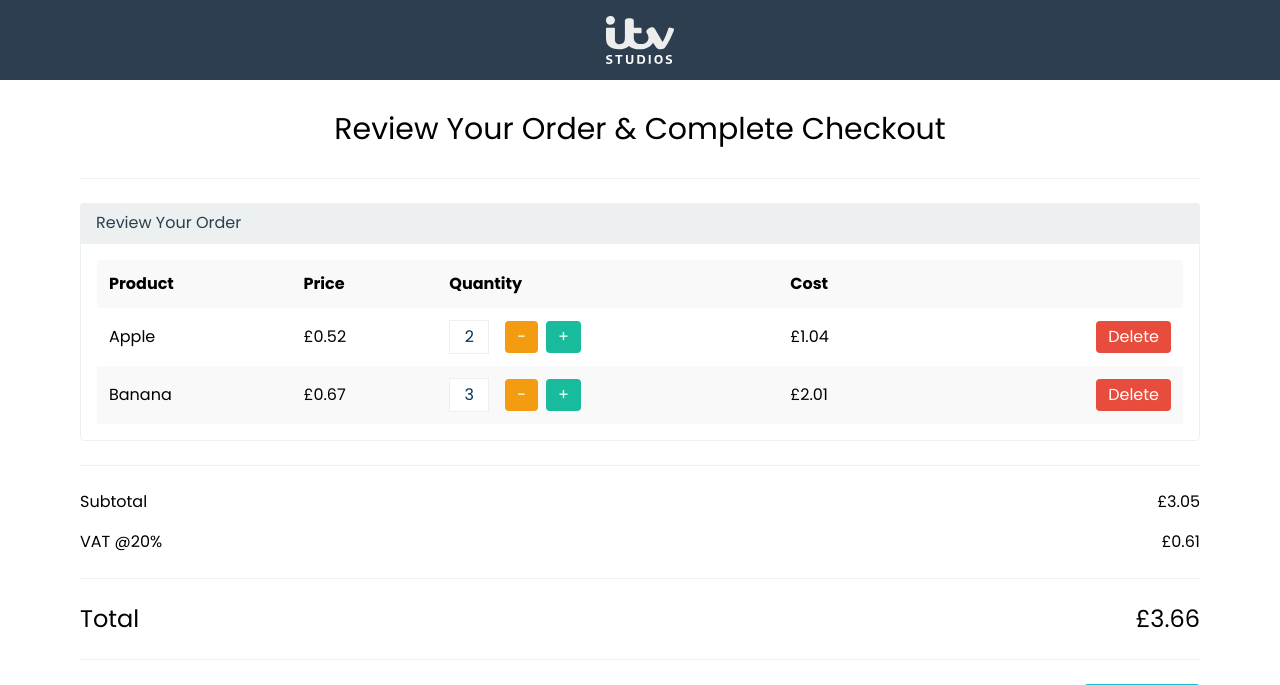
Test: Shopping Basket › allows deleting a product from the basket
// Find the delete button for the second product and click it
Click the button with test id "delete-product-button" in the row of "2.01": [1134, 395] box [1096,379,1171,411]
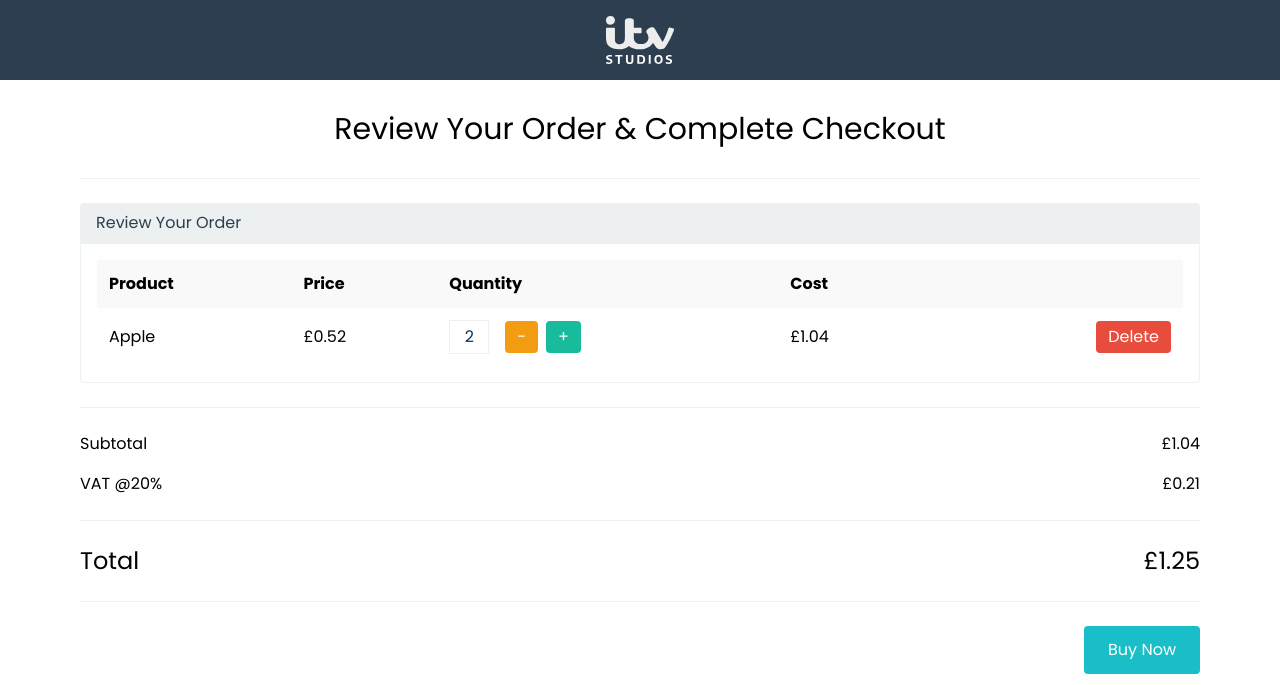
Expected: the number of cells with test id "product" is 1, [97,308,292,366]
